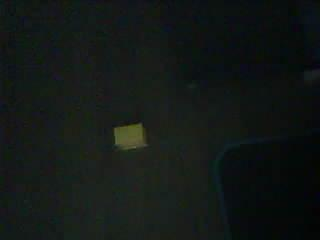lego: (113, 123, 149, 150)
